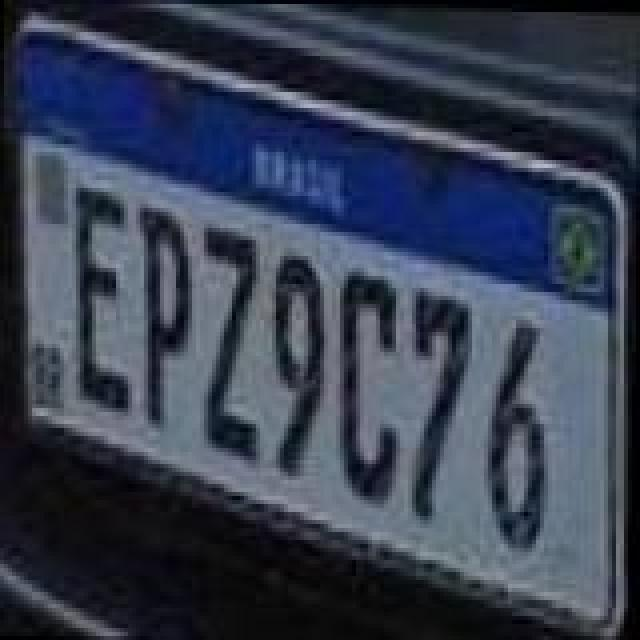6: (482, 316, 562, 552)
7: (406, 290, 478, 526)
9: (266, 252, 334, 476)
C: (332, 270, 408, 506)
E: (64, 188, 136, 416)
P: (132, 204, 196, 428)
Z: (198, 222, 274, 458)
